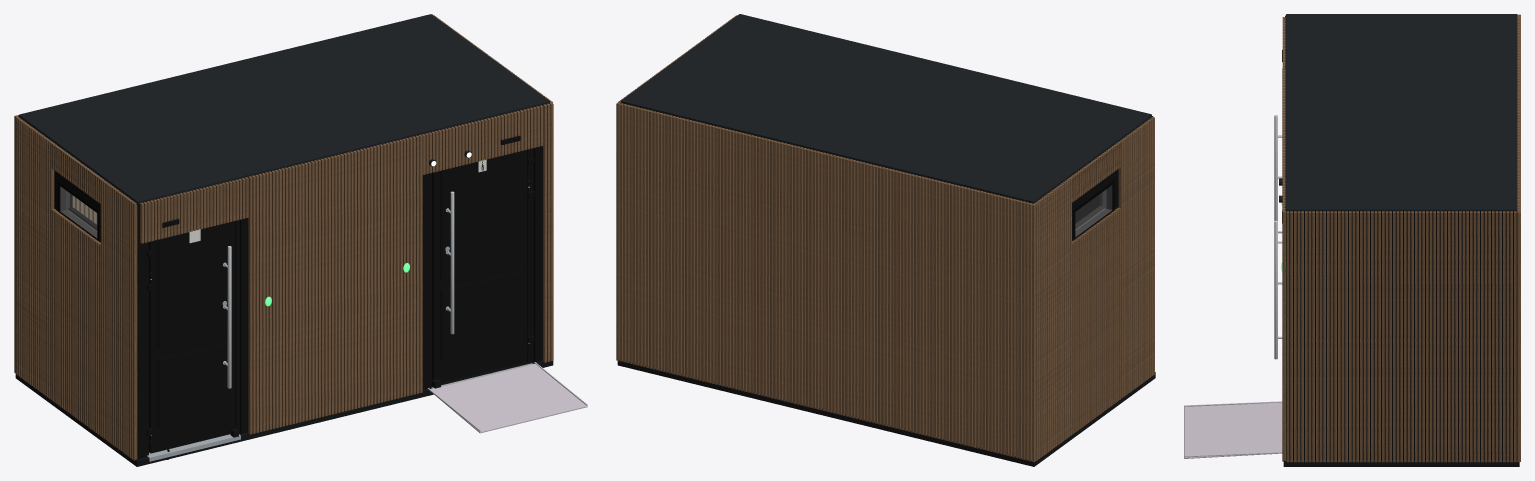
File: MGN_MOTHER_B-1975f4141c94.glb
3 renders of one model, left to right at view 1: azimuth 30°, elevation 25°; view 2: azimuth 150°, elevation 25°; view 3: azimuth 270°, elevation 25°, orthographic. The views are drawn at different scales.
Visible parts, largest first — view 1: RoofNoLED_Slab_1x1m, MGN_MOTHER_Slats_front_02, MGN_MOTHER_Slats_L_07, MGN_MOTHER_Slats_L_08, MGN_MOTHER_Slats_L_10, MGN_MOTHER_Panel_R1, MGN_MOTHER_Panel_L1, MGN_MOTHER_Ramp_plate, MGN_MOTHER_DoorR_Opaque_leaf, MGN_MOTHER_Panel_R0, MGN_MOTHER_DoorL_Opaque_leaf, MGN_MOTHER_Slats_front_03 (+16 smaller); view 2: MGN_MOTHER_Slats_back_05, RoofNoLED_Slab_1x1m, MGN_MOTHER_Slats_L_08, MGN_MOTHER_Slats_L_10, MGN_MOTHER_Slats_L_07, MGN_MOTHER_BaseFrame_back, MGN_MOTHER_Slats_L_09, MGN_MOTHER_BaseFrame_L, MGN_MOTHER_EndWin_glass; view 3: MGN_MOTHER_Slats_R_06, RoofNoLED_Slab_1x1m, MGN_MOTHER_Wall_end_R_00, MGN_MOTHER_Ramp_plate, MGN_MOTHER_Slats_back_05, MGN_MOTHER_BaseFrame_R, MGN_MOTHER_Wall_back_00, MGN_MOTHER_Slats_front_04, MGN_MOTHER_Wall_front_06, MGN_MOTHER_Pull_long_R, MGN_MOTHER_Pull_long_L, MGN_MOTHER_Slats_front_02.
Part boxes in pixels (x1,y1,x2,y2): RoofNoLED_Slab_1x1m: [19, 14, 549, 203]; MGN_MOTHER_Slats_front_02: [248, 134, 422, 434]; MGN_MOTHER_Slats_L_07: [100, 179, 137, 460]; MGN_MOTHER_Slats_L_08: [51, 209, 100, 435]; MGN_MOTHER_Slats_L_10: [16, 117, 54, 399]; MGN_MOTHER_Panel_R1: [442, 151, 519, 278]; MGN_MOTHER_Panel_L1: [159, 222, 228, 347]; MGN_MOTHER_Ramp_plate: [429, 363, 587, 433]; MGN_MOTHER_DoorR_Opaque_leaf: [432, 149, 527, 382]; MGN_MOTHER_Panel_R0: [442, 273, 519, 357]; MGN_MOTHER_DoorL_Opaque_leaf: [149, 221, 234, 453]; MGN_MOTHER_Slats_front_03: [422, 105, 543, 174]; MGN_MOTHER_Slats_back_05: [616, 102, 1035, 462]; RoofNoLED_Slab_1x1m: [621, 14, 1151, 203]; MGN_MOTHER_Slats_L_08: [1072, 207, 1120, 434]; MGN_MOTHER_Slats_L_10: [1034, 177, 1071, 460]; MGN_MOTHER_Slats_L_07: [1118, 117, 1154, 398]; MGN_MOTHER_BaseFrame_back: [617, 359, 1035, 466]; MGN_MOTHER_Slats_L_09: [1070, 142, 1120, 202]; MGN_MOTHER_BaseFrame_L: [1035, 375, 1154, 465]; MGN_MOTHER_EndWin_glass: [1076, 190, 1105, 229]; MGN_MOTHER_Slats_R_06: [1286, 211, 1516, 462]; RoofNoLED_Slab_1x1m: [1286, 14, 1517, 211]; MGN_MOTHER_Wall_end_R_00: [1296, 211, 1506, 459]; MGN_MOTHER_Ramp_plate: [1184, 402, 1282, 458]; MGN_MOTHER_Slats_back_05: [1517, 14, 1520, 461]; MGN_MOTHER_BaseFrame_R: [1286, 460, 1516, 466]; MGN_MOTHER_Wall_back_00: [1509, 211, 1517, 459]; MGN_MOTHER_Slats_front_04: [1282, 208, 1285, 461]; MGN_MOTHER_Wall_front_06: [1286, 211, 1293, 459]; MGN_MOTHER_Pull_long_R: [1274, 220, 1277, 359]; MGN_MOTHER_Pull_long_L: [1274, 115, 1277, 220]; MGN_MOTHER_Slats_front_02: [1282, 68, 1285, 207].
Bounding box in the file's own units: 4.06 × 2.46 × 2.91.
Materials: 69 (1 with a texture image).
